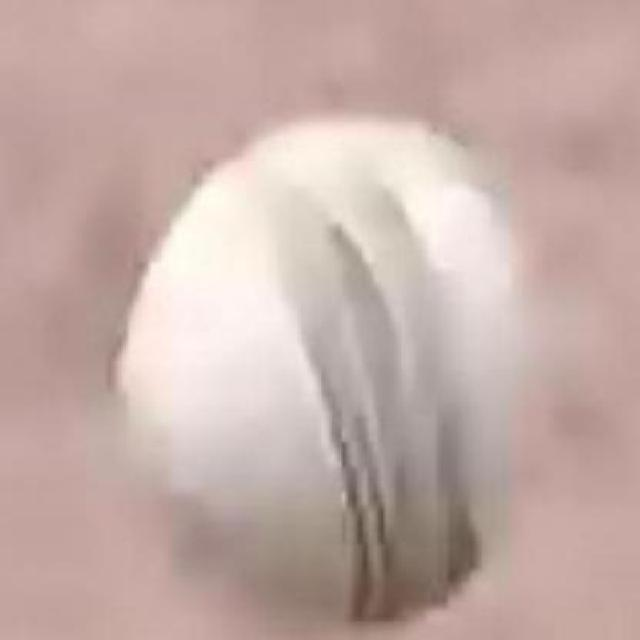Cricket ball: (105, 108, 546, 635)
